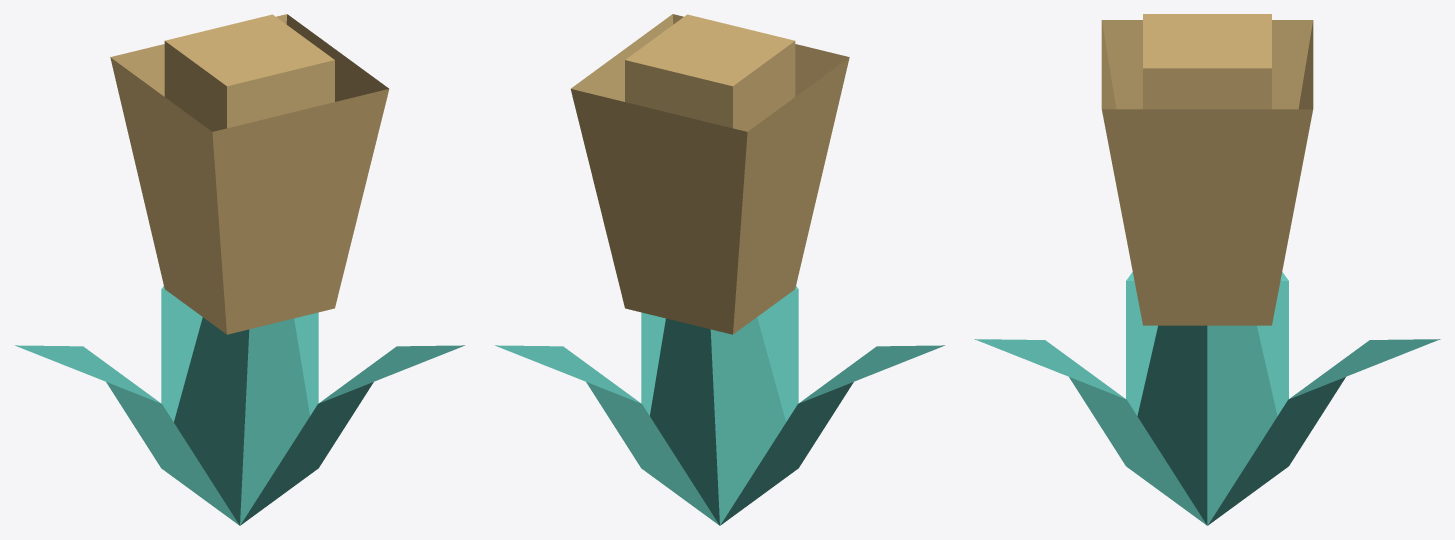
File: flower_yellowA.glb
The picture shows the model from 3 angles, left to right: view 1: azimuth 30°, elevation 25°; view 2: azimuth 150°, elevation 25°; view 3: azimuth 270°, elevation 25°; orthographic projection. The views are drawn at different scales.
Parts seen in each view (by area): view 1: flower_yellowA; view 2: flower_yellowA; view 3: flower_yellowA.
Part boxes in pixels (<box>): flower_yellowA: <box>15,14,464,525</box>; flower_yellowA: <box>495,14,944,525</box>; flower_yellowA: <box>974,14,1440,525</box>.
Bounding box in the file's own units: 0.1591 × 0.1925 × 0.1811.
